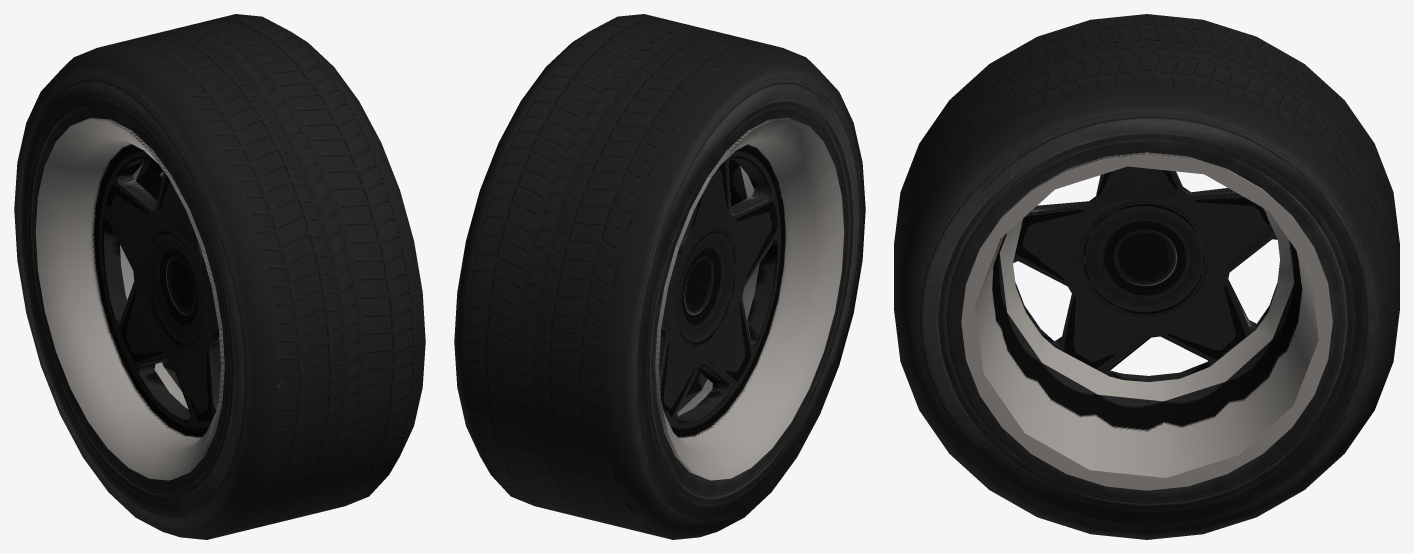
Rendered from Wheel_L.obj.
3 views of the same model, side by side, from view 1: azimuth 30°, elevation 25°; view 2: azimuth 150°, elevation 25°; view 3: azimuth 270°, elevation 25° (orthographic).
Visible parts, largest first — view 1: Wheel_L; view 2: Wheel_L; view 3: Wheel_L.
Boxes of the visible parts, x1,y1,x2,y2 form: Wheel_L: [14, 14, 425, 539]; Wheel_L: [454, 14, 865, 539]; Wheel_L: [894, 14, 1399, 539].
Bounding box in the file's own units: 2.47 × 5.8 × 5.8.
Materials: 1 (1 with a texture image).
